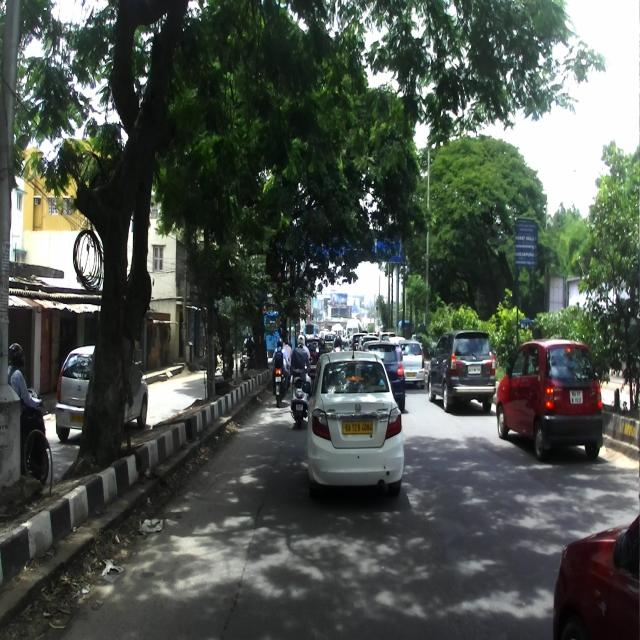Car_Honda: (301, 340, 404, 501)
Car_Maruti-Suzuki: (495, 337, 603, 462)
Car_TATA: (55, 343, 149, 442)
Car_Toyota: (427, 330, 497, 410)
scooter: (18, 387, 49, 485)
